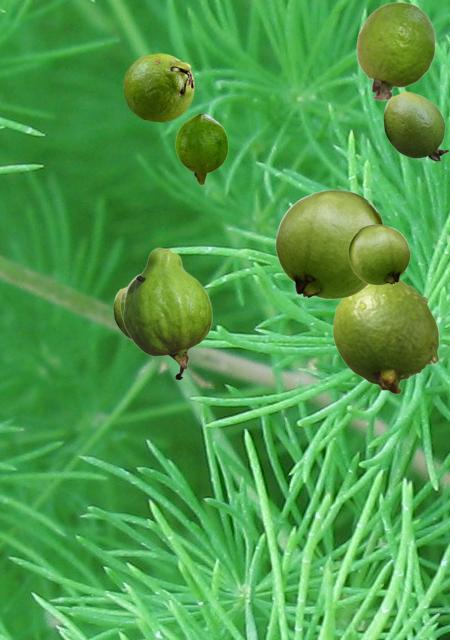guava: (332, 279, 438, 393), (275, 189, 383, 298), (122, 247, 211, 379), (356, 1, 435, 100), (123, 53, 193, 121), (383, 91, 448, 160), (175, 113, 227, 184), (348, 224, 409, 284), (113, 286, 130, 339), (120, 274, 137, 318)
